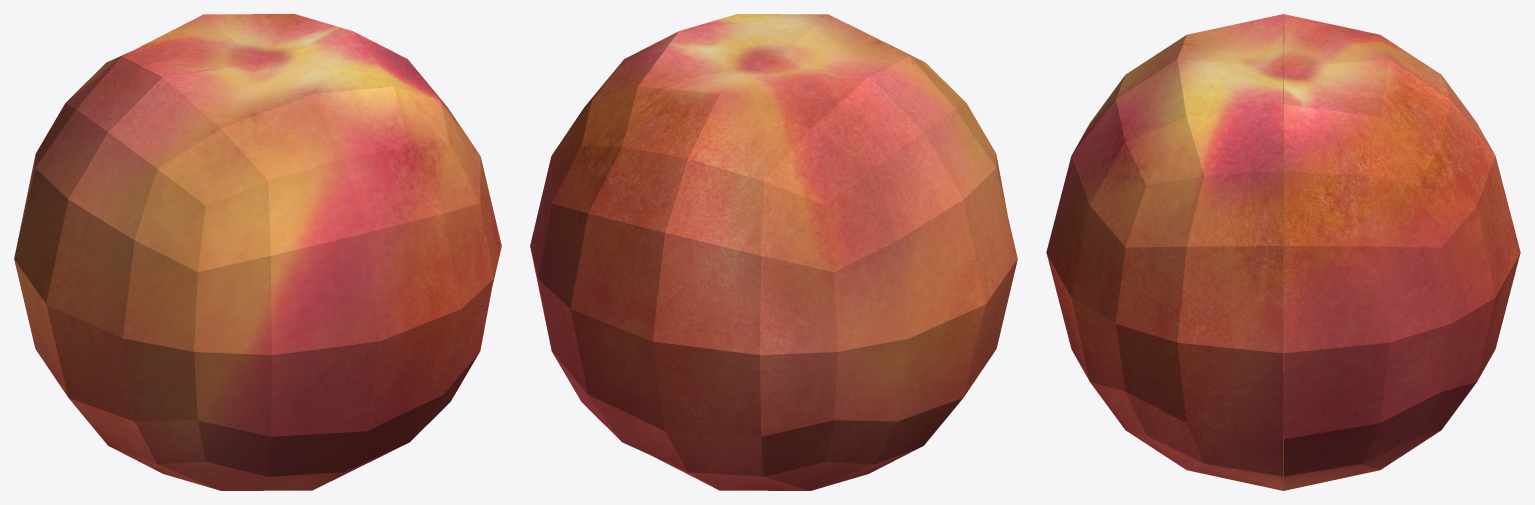
File: peach.fbx
3 views of the same model, side by side, from view 1: azimuth 30°, elevation 25°; view 2: azimuth 150°, elevation 25°; view 3: azimuth 270°, elevation 25° (orthographic). The views are drawn at different scales.
Visible parts, largest first — view 1: peach.002, peach.001; view 2: peach.001, peach.002; view 3: peach.002, peach.001.
Boxes of the visible parts, x1,y1,x2,y2 form: peach.002: (46, 31, 501, 490); peach.001: (14, 14, 351, 396); peach.001: (530, 31, 985, 490); peach.002: (680, 14, 1017, 396); peach.002: (1046, 14, 1283, 490); peach.001: (1283, 14, 1520, 490).
Bounding box in the file's own units: 0.7374 × 0.6985 × 0.7329.
